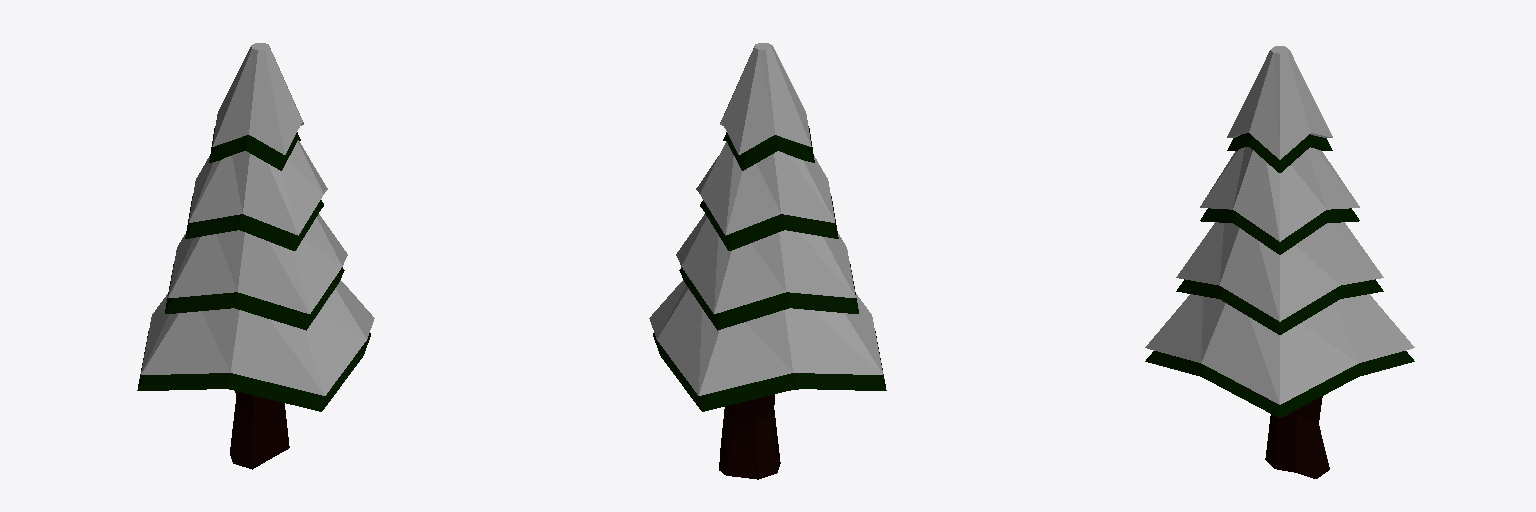
Rendered from pinonevado.obj.
3 views of the same model, side by side, from view 1: azimuth 30°, elevation 25°; view 2: azimuth 150°, elevation 25°; view 3: azimuth 270°, elevation 25° (orthographic).
Parts seen in each view (by area): view 1: Cylinder; view 2: Cylinder; view 3: Cylinder.
Boxes of the visible parts, box(x1,y1,x2,y2) form: Cylinder: box(137, 43, 374, 469); Cylinder: box(649, 43, 886, 479); Cylinder: box(1145, 46, 1414, 478).
Size of the model in its own units: 5.88 by 9.86 by 5.8.